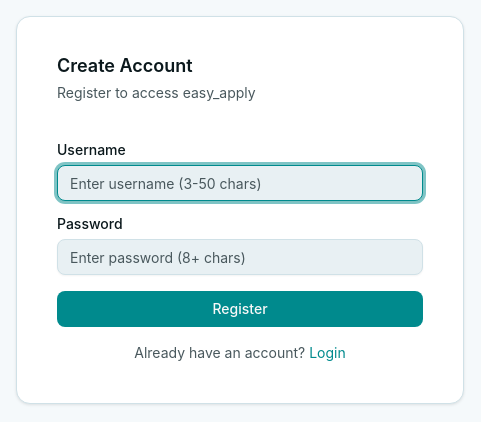
Scenario: RegisterPage › form submission › should disable button while loading
In the field labelled "Username": x=240, y=183 top-left (57, 165), bottom-right (423, 201), type "newuser"
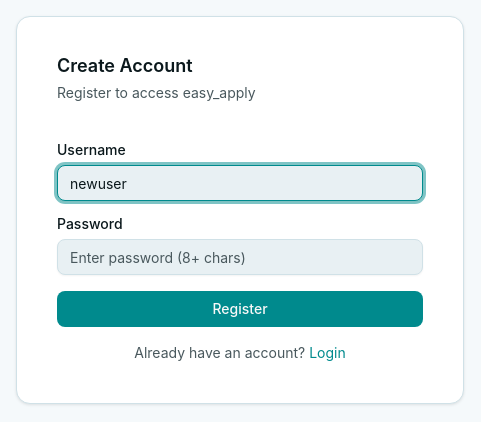
In the password field labelled "Password": x=240, y=257 top-left (57, 239), bottom-right (423, 275), type "password123"
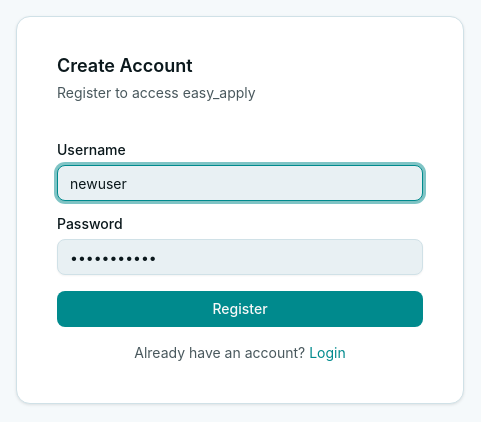
Click the button "Register": x=240, y=309 top-left (57, 291), bottom-right (423, 327)
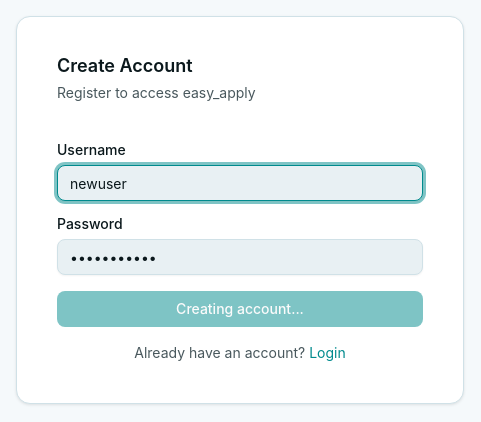
Now the button is disabled, box top-left (57, 291), bottom-right (423, 327)
Now the button shows "Creating account", box top-left (57, 291), bottom-right (423, 327)
